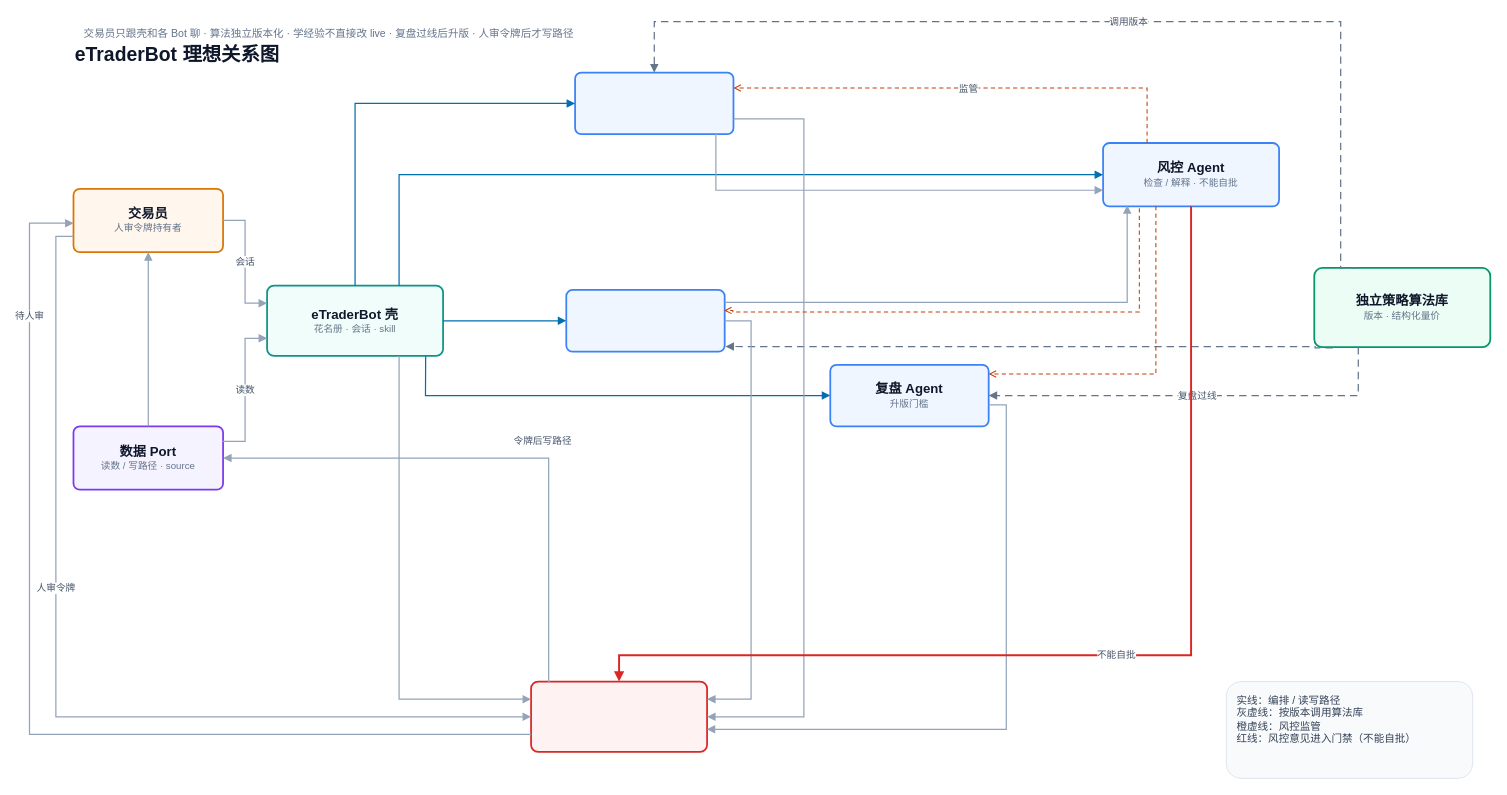
Image size: 1507x795. Some labels were removed from this diagram. The shapes that lost their labels are listed below. From the top down, each one's box as (x1, y1, x2, y2) in pixels, then its label:
(574, 71, 734, 135): 中长期 Agent 影子提案
(565, 289, 725, 352): 现货 Agent 一个 Bot · skill 覆盖时段
(530, 680, 708, 752): 门禁 影子默认 · 人审放行
